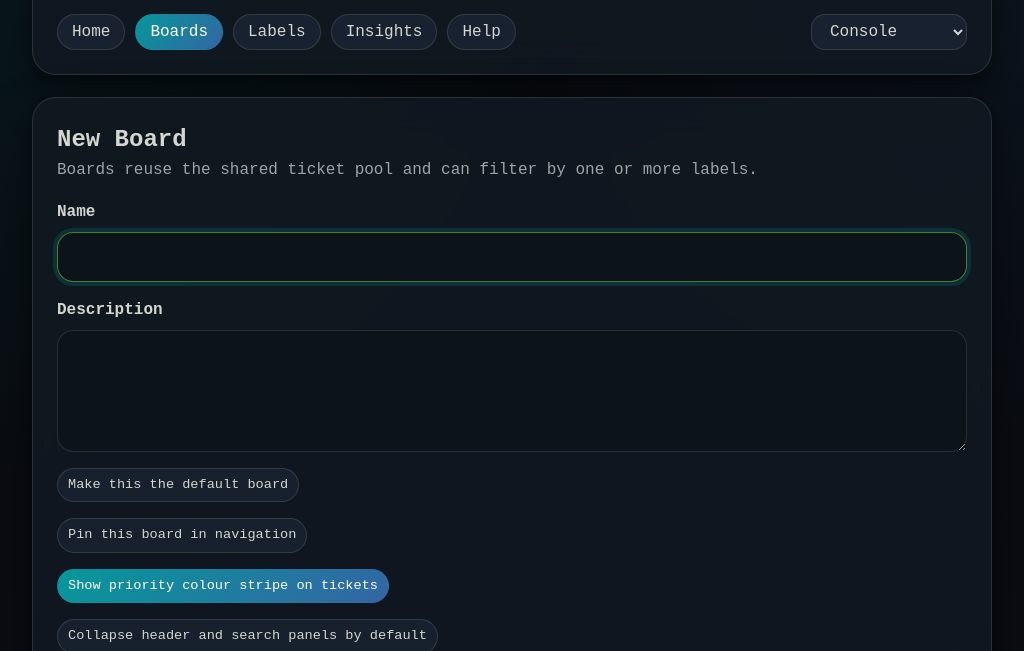
Scenario: BoardEditPage › requires a default label when board filter labels are selected
Type "Filtered Board" into the field with test id "board-name-input".
click(512, 257); type("Filtered Board")  # box [57,232,967,282]
(page scrolled)
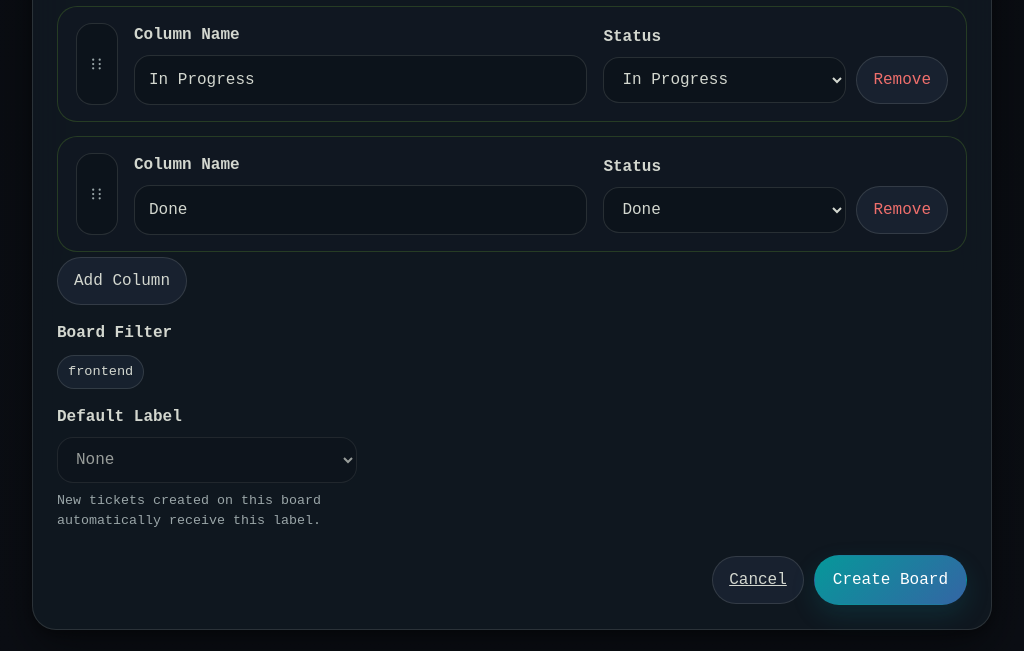
Click the text "frontend".
click(101, 372)  # box [57,355,144,389]
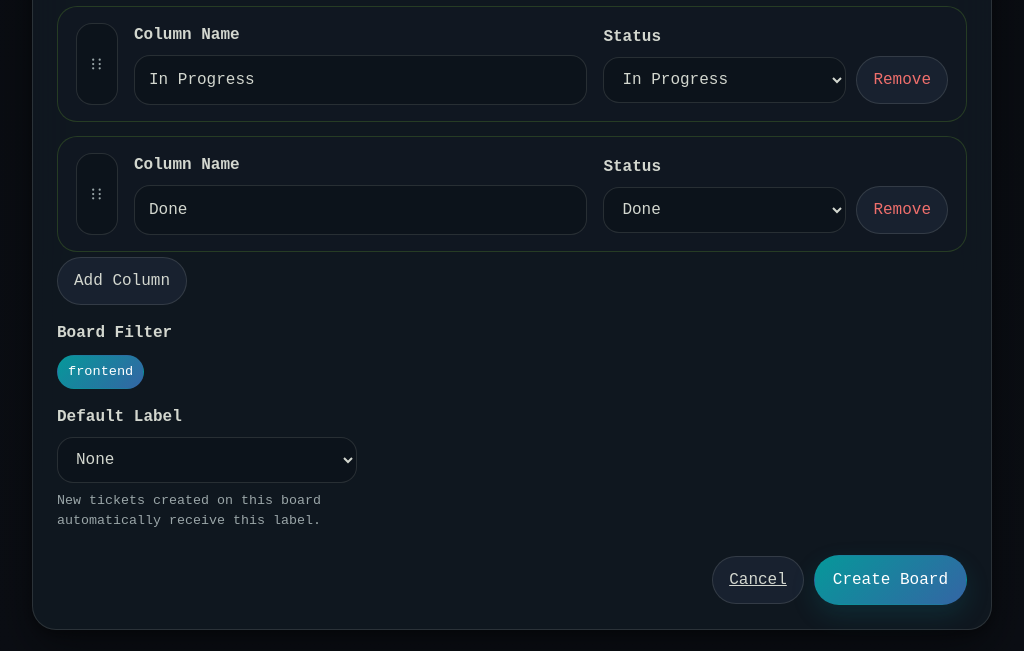
Click the button "Create Board".
click(890, 580)  # box [814,555,967,605]
(page scrolled)
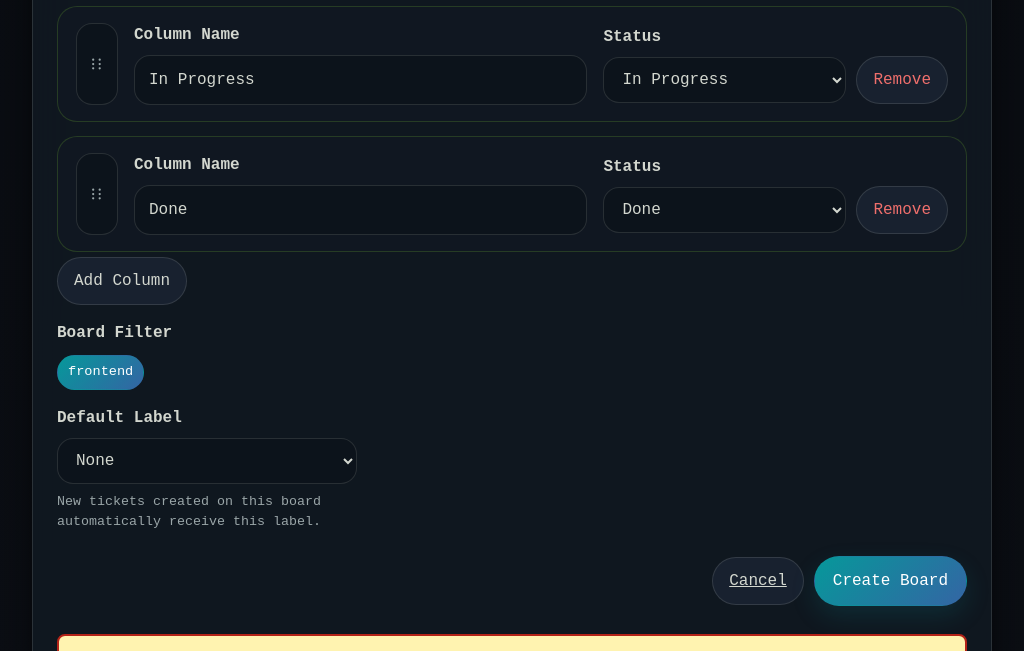
Expected: the text "Choose a default label from the board filter labels before saving." is shown 2 times
